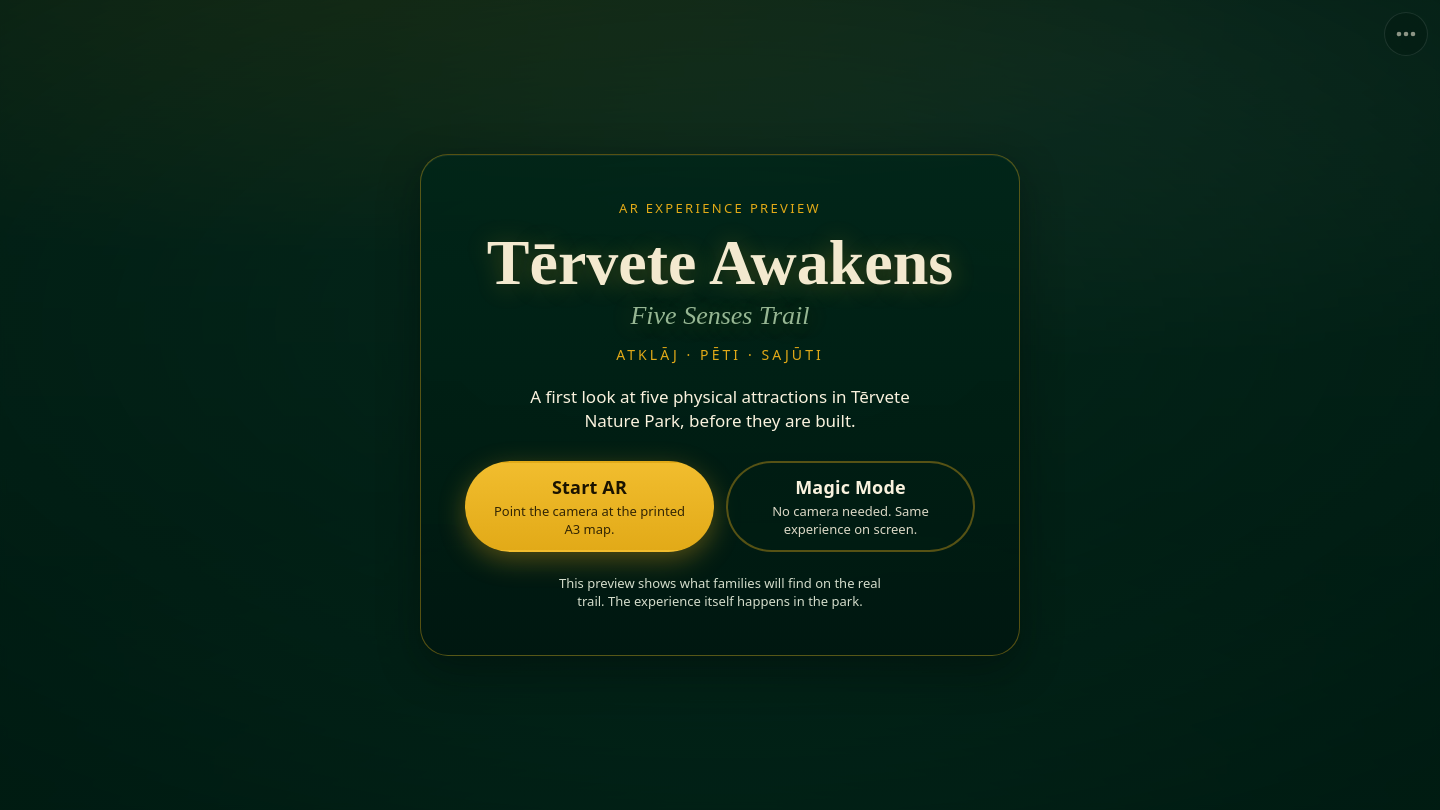
Scenario: presenter controls › opens with P, jumps to any scene, and steps with next/previous
Later steps or results of the test are not shown.
Click the button "Magic Mode No camera needed. Same experience on screen.": (850, 506) x1=726 y1=461 x2=975 y2=552
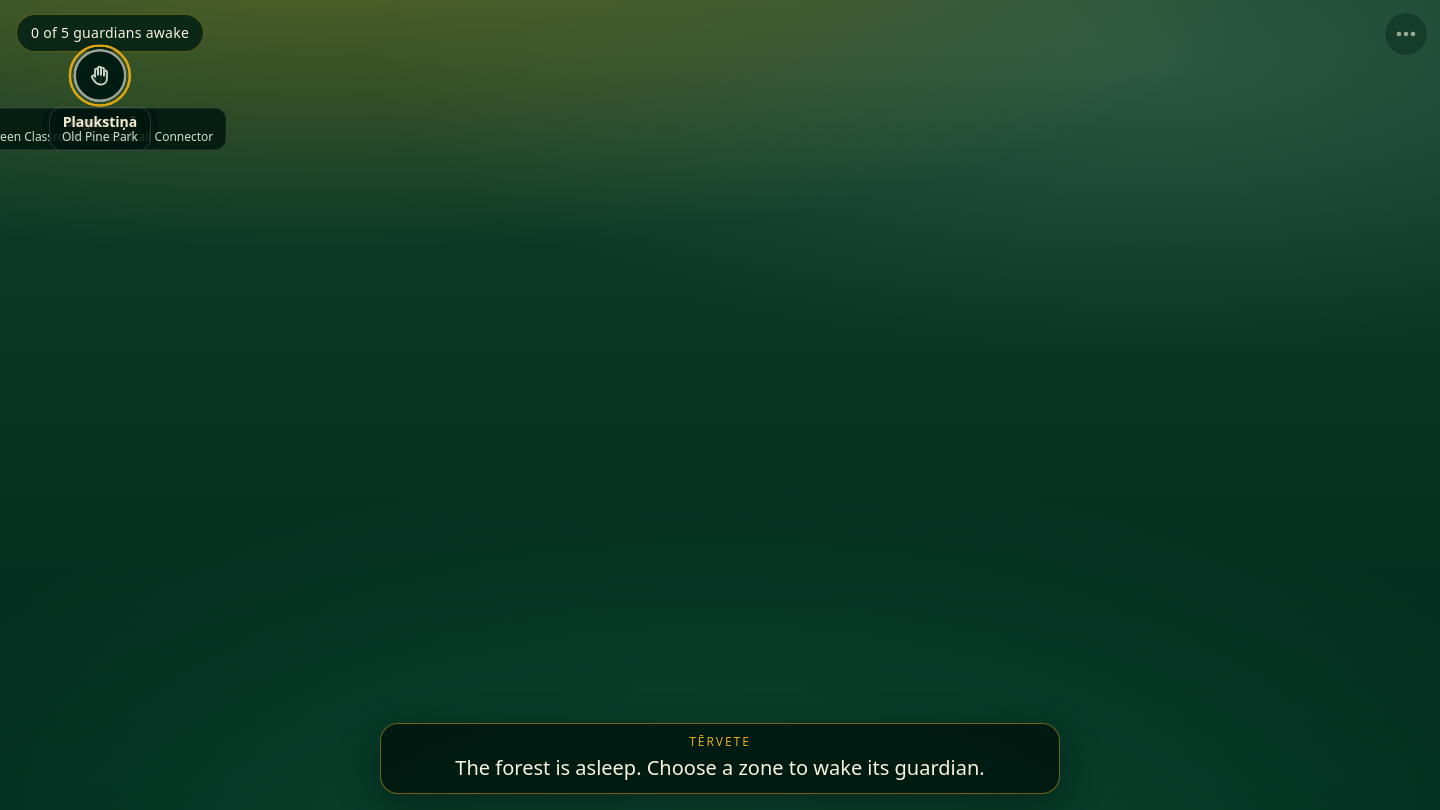
Press p
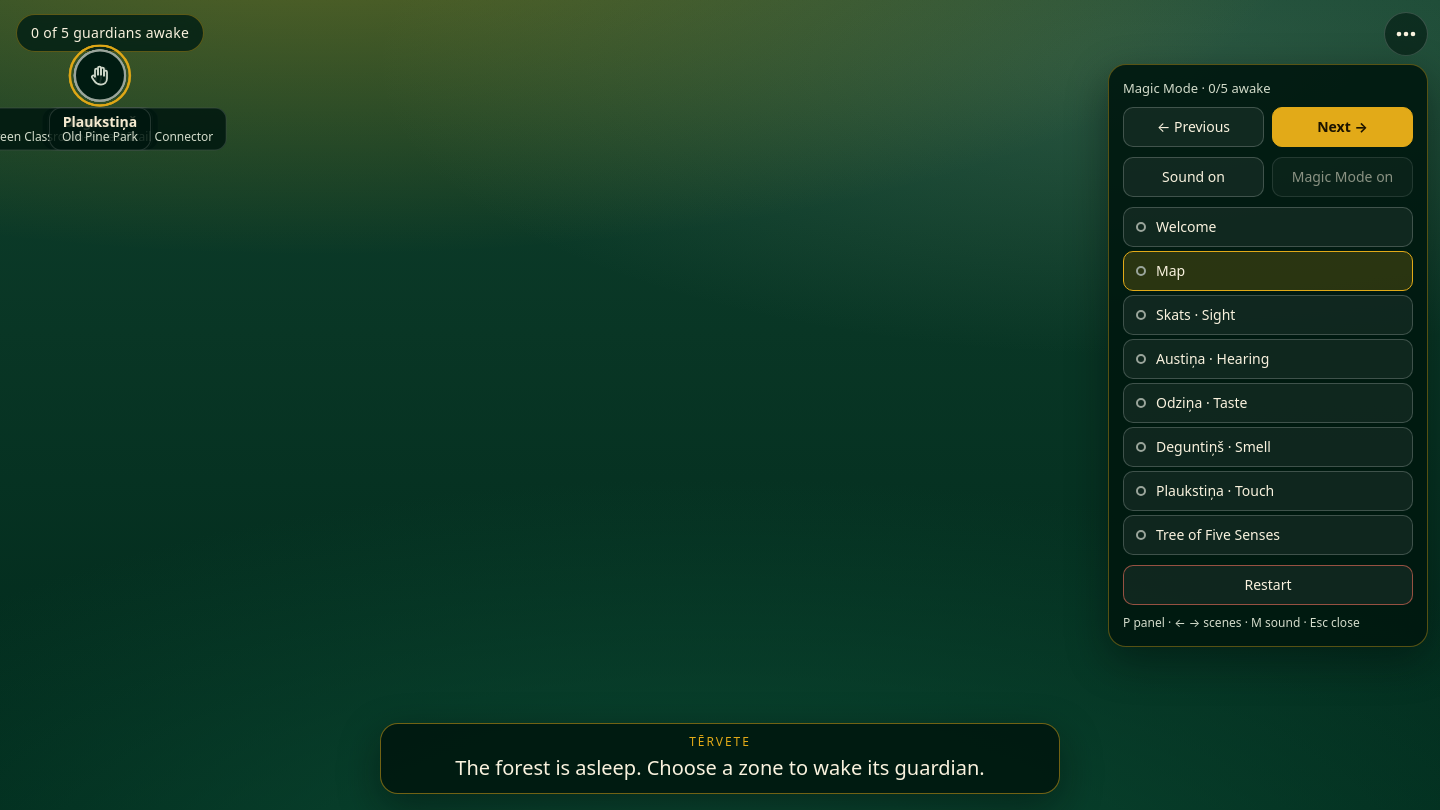
Click the button "Plaukstiņa · Touch": (1268, 491) x1=1123 y1=471 x2=1413 y2=511
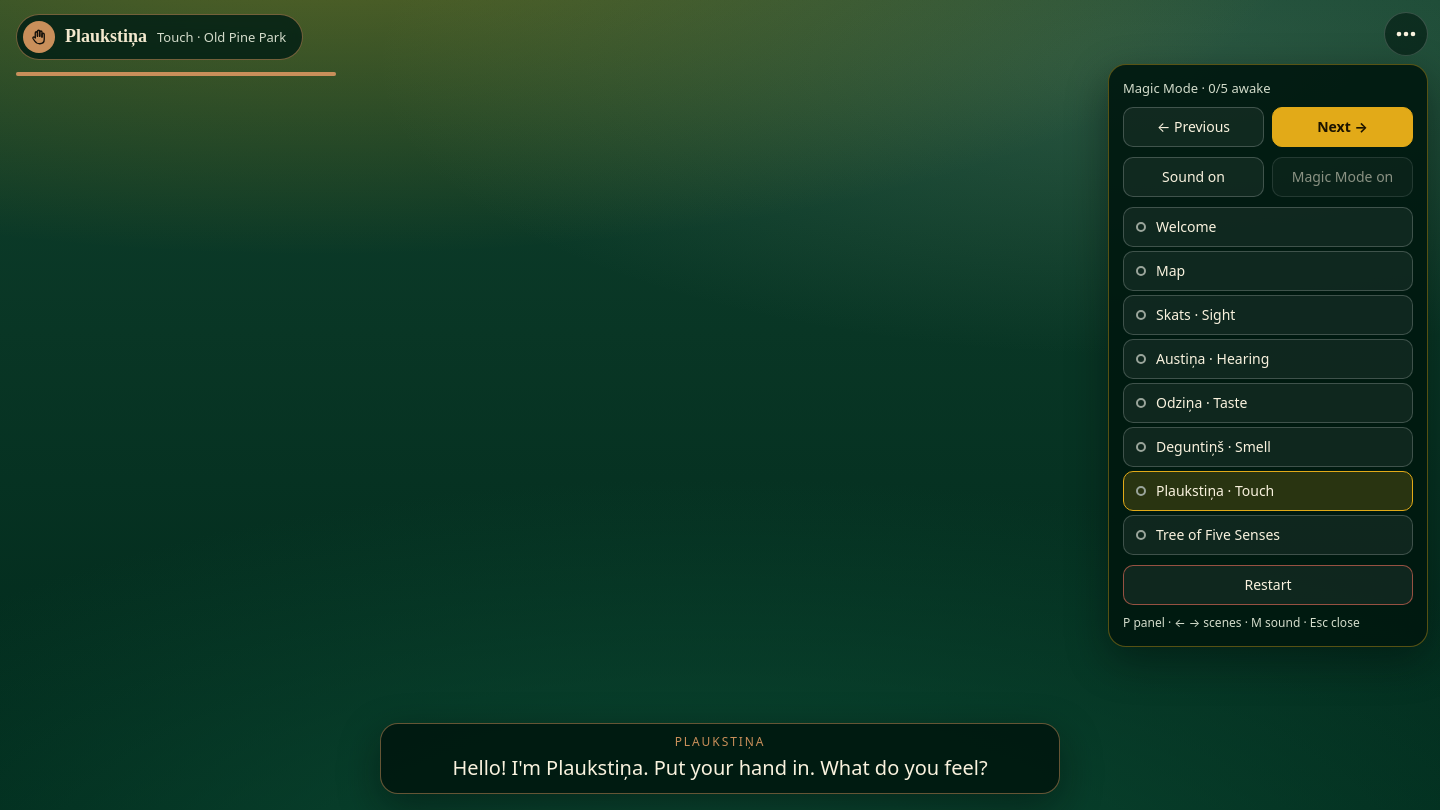
Press ArrowRight
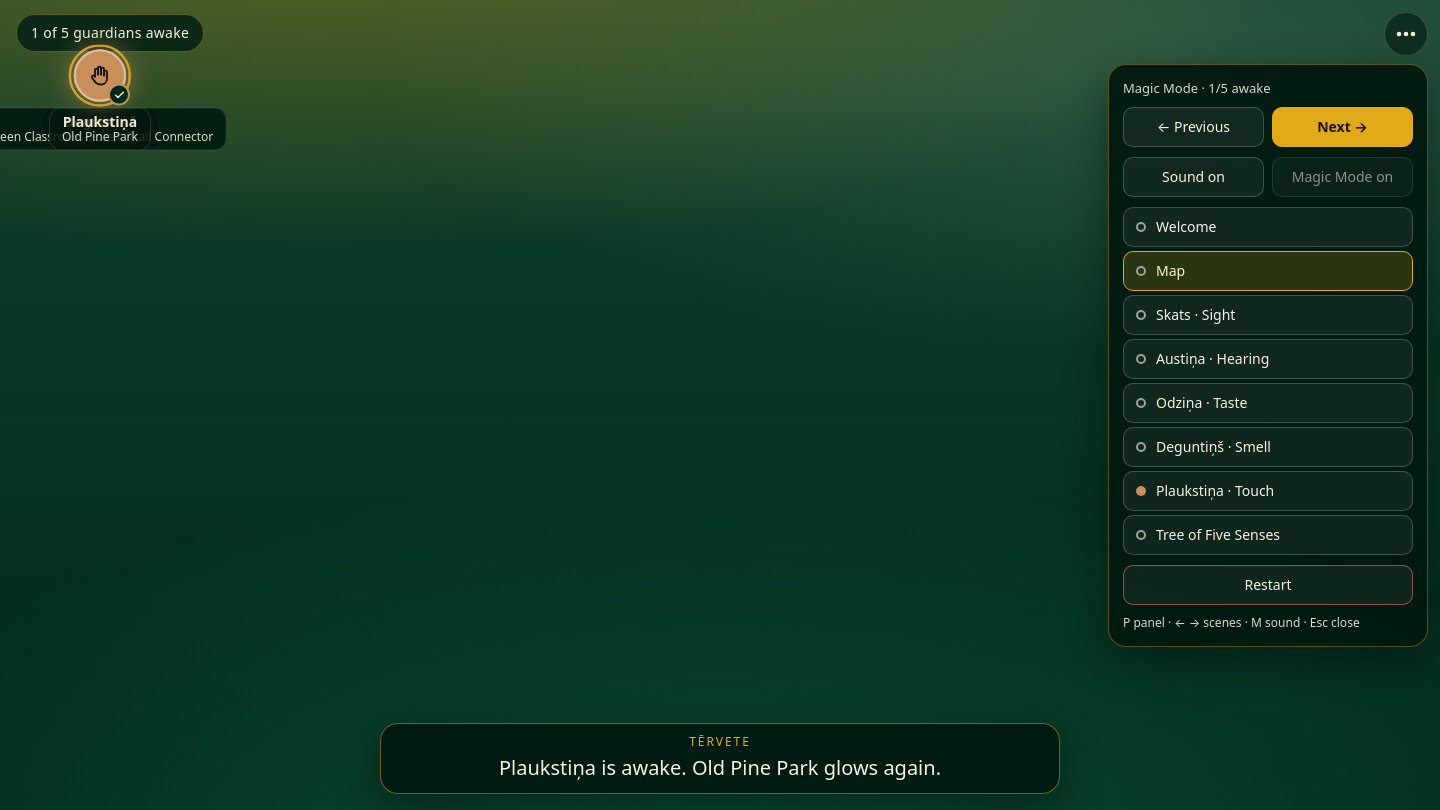
Expected: the text "1 of 5 guardians awake" is shown, x1=16 y1=14 x2=204 y2=52
